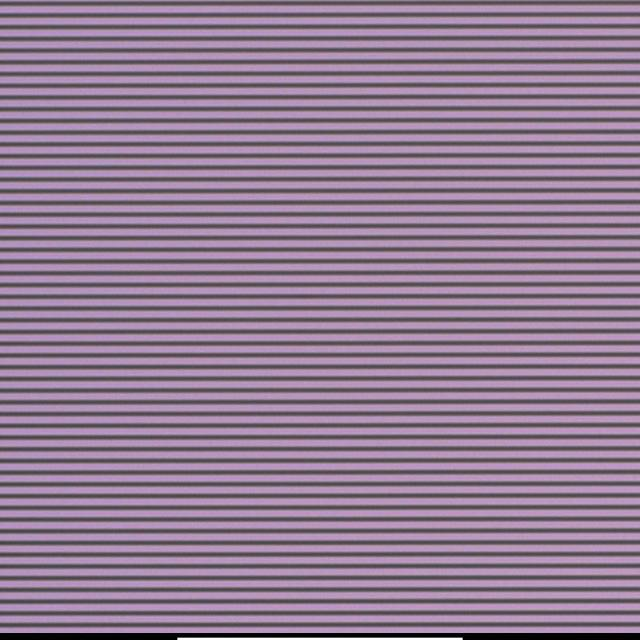nonvisual: (321, 314, 332, 326)
